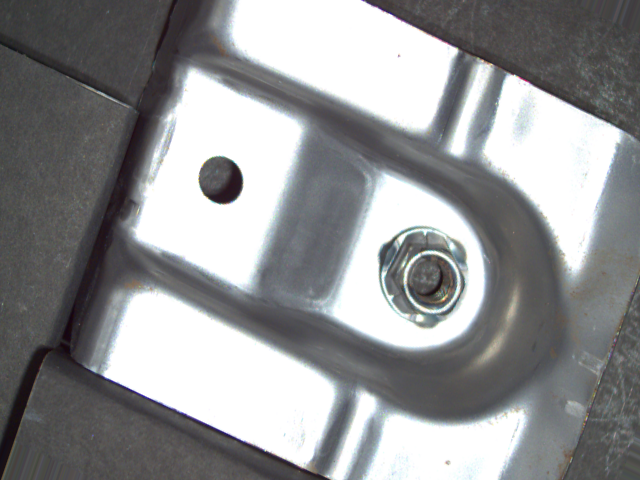good: (374, 220, 478, 334)
